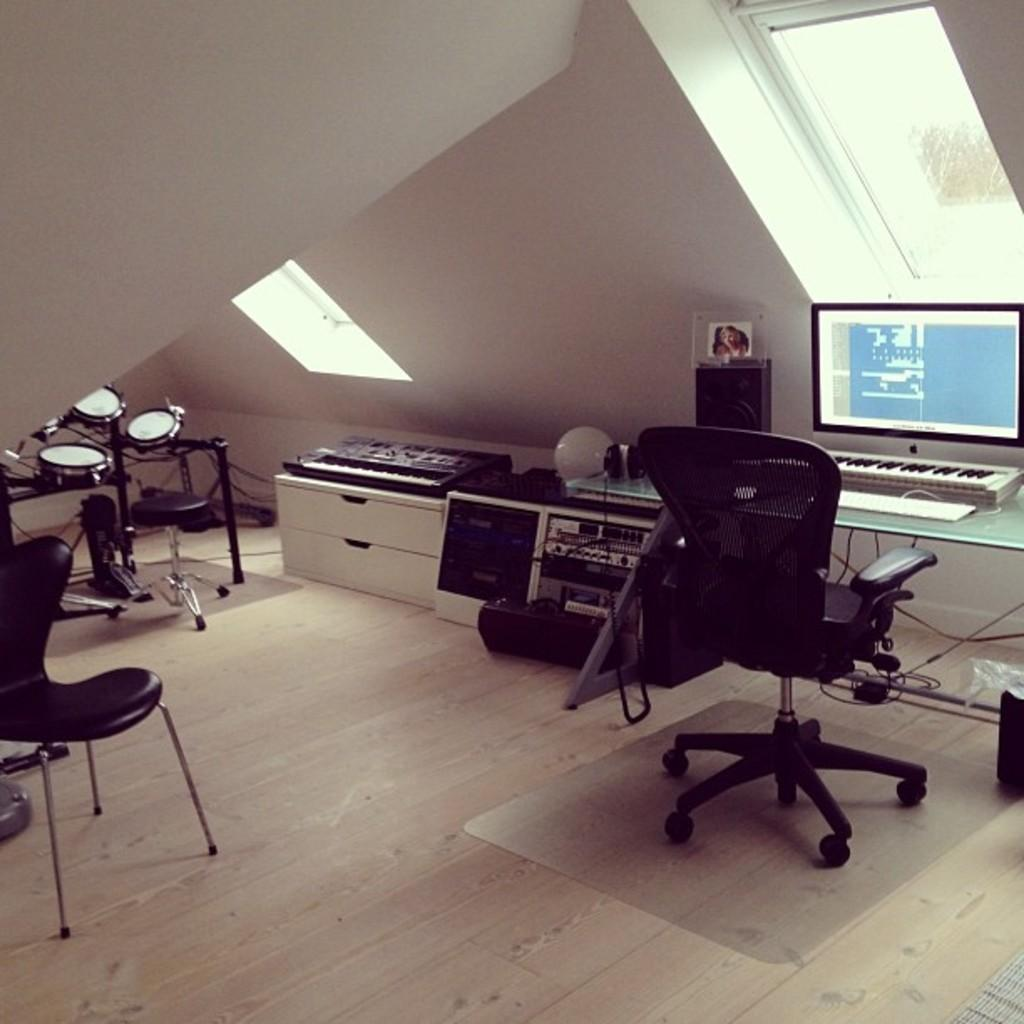Chair: (631, 423, 939, 872), (0, 577, 212, 904)
Computer-monitor: (820, 300, 1022, 440), (691, 355, 776, 435)
